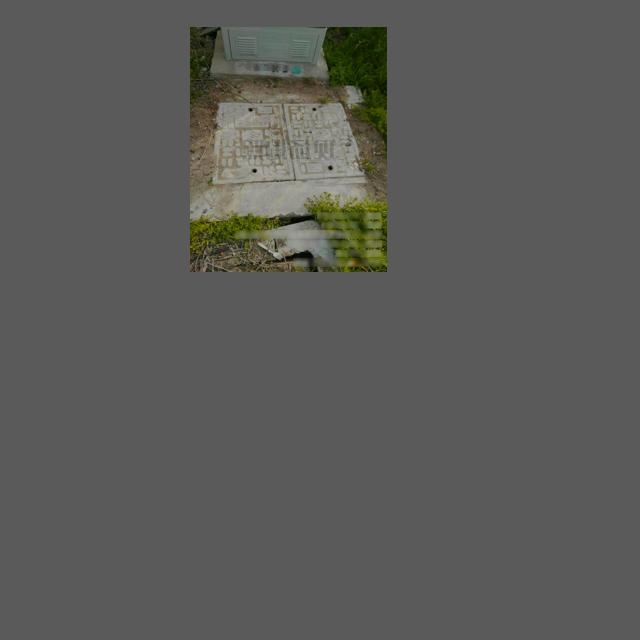good: (212, 101, 368, 186)
